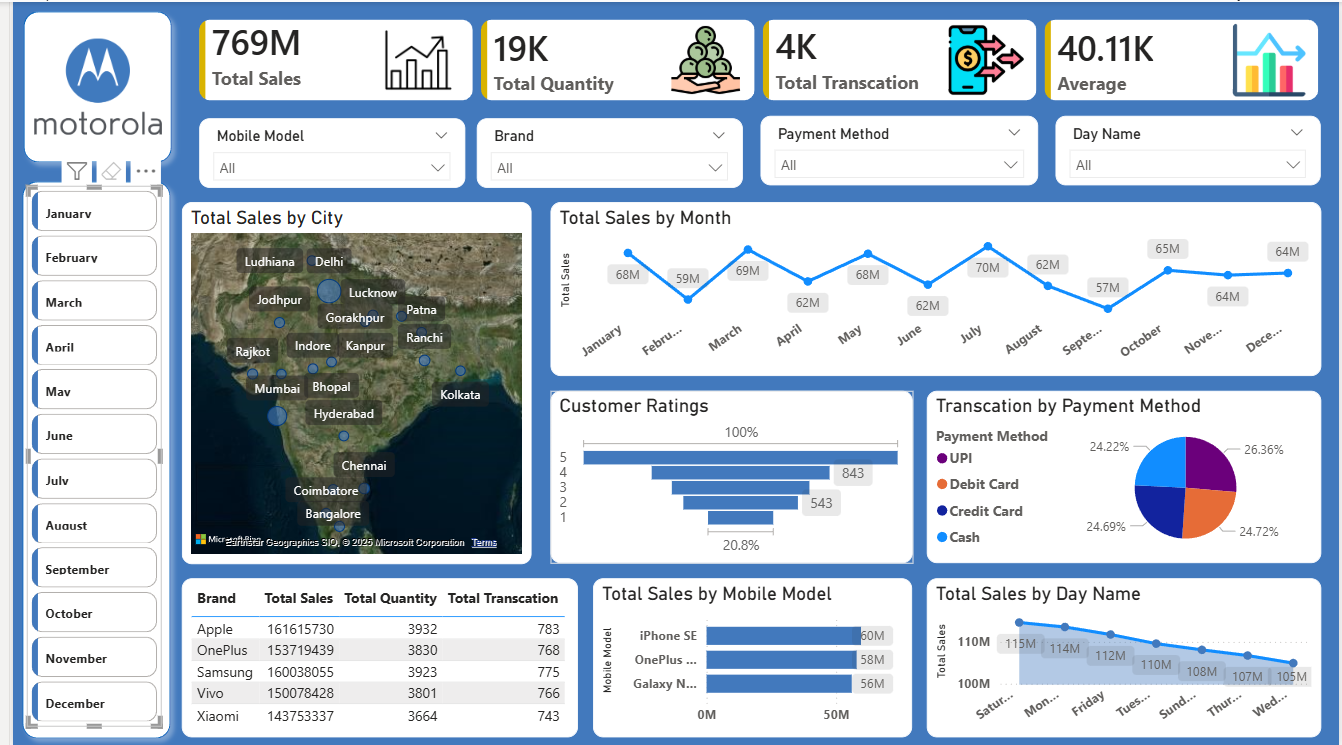

What the dashboard file says about the page in this screenshot:
{"tool":"powerbi","page":{"name":"Page 1","canvas":[1280,720],"ordinal":0},"visuals":[{"type":"shape","box":[1.4,0,161.1,163.9],"z":0},{"type":"image","box":[20.5,16.9,123.1,129.1],"z":1000},{"type":"shape","box":[0,163.9,161.1,555.9],"z":2000},{"type":"advancedSlicerVisual","fields":{"Values":["Sales_Data.Date.Variation.Date Hierarchy.Month"]},"box":[12.8,176.7,131.1,523.1],"z":3000},{"type":"cardVisual","fields":{"Data":["Sales_Data.Total Sales","Sales_Data.Total Quantity","Sales_Data.Total Transcation","Sales_Data.Average"]},"box":[162.5,0,1117.5,112.6],"z":4000},{"type":"map","fields":{"Category":["Sales_Data.City"],"Size":["Sales_Data.Total Sales"]},"box":[162.5,192.4,337.8,349.2],"z":5000},{"type":"lineChart","fields":{"Category":["Sales_Data.Date.Variation.Date Hierarchy.Month","Sales_Data.Date.Variation.Date Hierarchy.Day"],"Y":["Sales_Data.Total Sales"]},"box":[518.8,192.4,744.1,168.2],"z":6000},{"type":"barChart","fields":{"Y":["Sales_Data.Total Sales"],"Category":["Sales_Data.Mobile Model"]},"box":[560.2,555.9,307.9,153.9],"z":7000},{"type":"pieChart","fields":{"Category":["Sales_Data.Payment Method"],"Y":["Sales_Data.Total Transcation"]},"box":[882.3,374.9,380.6,166.8],"z":8000},{"type":"funnel","title":"Customer Ratings","fields":{"Category":["Sales_Data.Customer Ratings"],"Y":["CountNonNull(Sales_Data.Customer Ratings)"]},"box":[518.8,374.9,349.2,166.8],"z":9000},{"type":"tableEx","fields":{"Values":["Sales_Data.Brand","Sales_Data.Total Sales","Sales_Data.Total Quantity","Sales_Data.Total Transcation"]},"box":[162.5,555.9,382,153.9],"z":10000},{"type":"areaChart","fields":{"Category":["Sales_Data.Day Name"],"Y":["Sales_Data.Total Sales"]},"box":[882.3,555.9,380.6,153.9],"z":11000},{"type":"slicer","fields":{"Values":["Sales_Data.Mobile Model"]},"box":[179.6,112.6,256.6,67],"z":11001},{"type":"slicer","fields":{"Values":["Sales_Data.Brand"]},"box":[447.6,112.6,256.6,67],"z":11005},{"type":"slicer","fields":{"Values":["Sales_Data.Payment Method"]},"box":[721.5,109.8,267.8,67.6],"z":11006},{"type":"slicer","fields":{"Values":["Sales_Data.Day Name"]},"box":[1006.2,109.8,255.8,67.6],"z":11007}]}

Visuals, with their boxes in screenshot pixels (x1, y1, x2, y2):
shape: bbox=[22, 0, 187, 167]
image: bbox=[42, 17, 167, 149]
shape: bbox=[21, 167, 185, 734]
advancedSlicerVisual - Sales_Data.Date.Variation.Date Hierarchy.Month: bbox=[34, 180, 168, 714]
cardVisual - Sales_Data.Total Sales x Sales_Data.Total Quantity: bbox=[187, 0, 1326, 115]
map - Sales_Data.City x Sales_Data.Total Sales: bbox=[187, 196, 531, 552]
lineChart - Sales_Data.Date.Variation.Date Hierarchy.Month x Sales_Data.Date.Variation.Date Hierarchy.Day: bbox=[550, 196, 1309, 368]
barChart - Sales_Data.Total Sales x Sales_Data.Mobile Model: bbox=[592, 567, 906, 724]
pieChart - Sales_Data.Payment Method x Sales_Data.Total Transcation: bbox=[921, 382, 1309, 552]
"Customer Ratings" funnel: bbox=[550, 382, 906, 552]
tableEx - Sales_Data.Brand x Sales_Data.Total Sales: bbox=[187, 567, 576, 724]
areaChart - Sales_Data.Day Name x Sales_Data.Total Sales: bbox=[921, 567, 1309, 724]
slicer - Sales_Data.Mobile Model: bbox=[204, 115, 466, 183]
slicer - Sales_Data.Brand: bbox=[477, 115, 739, 183]
slicer - Sales_Data.Payment Method: bbox=[757, 112, 1030, 181]
slicer - Sales_Data.Day Name: bbox=[1047, 112, 1308, 181]
